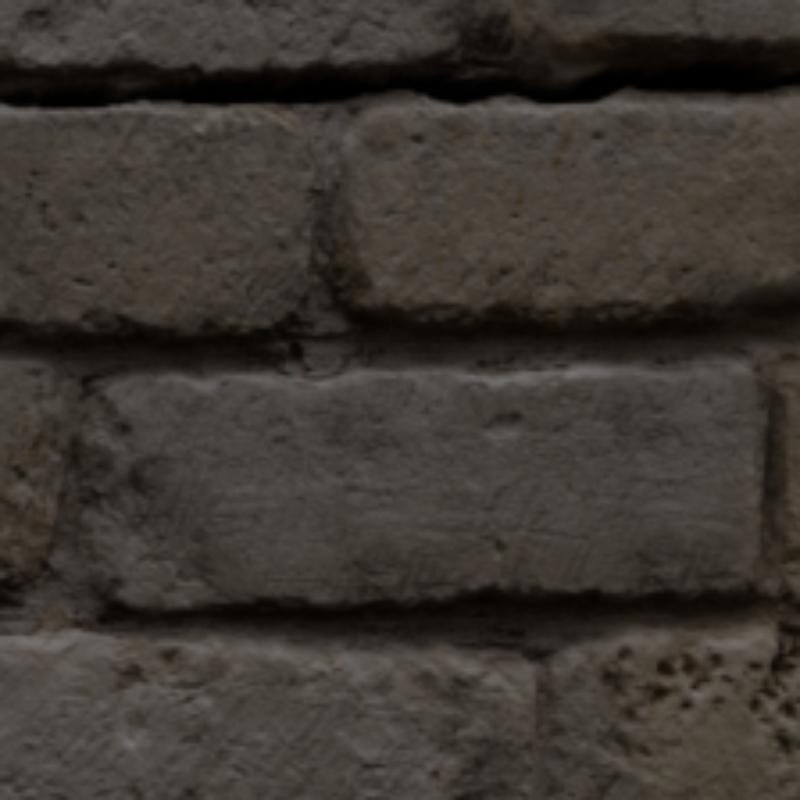crack: (0, 54, 796, 104)
